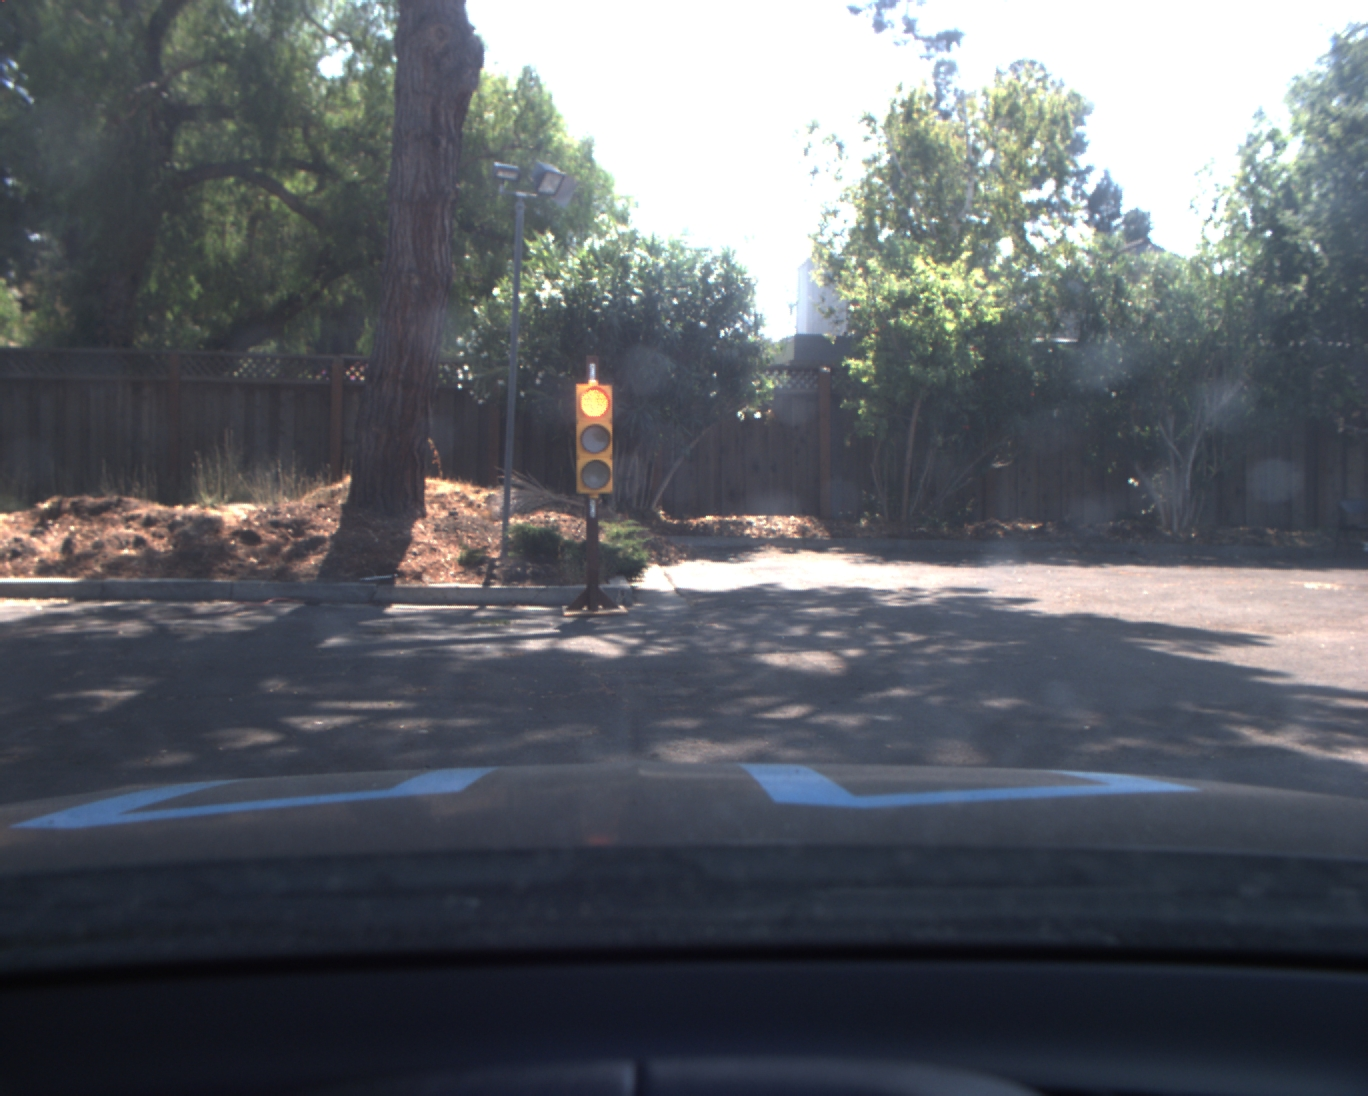red: (576, 381, 613, 495)
